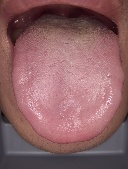tongue: (10, 37, 127, 146)
